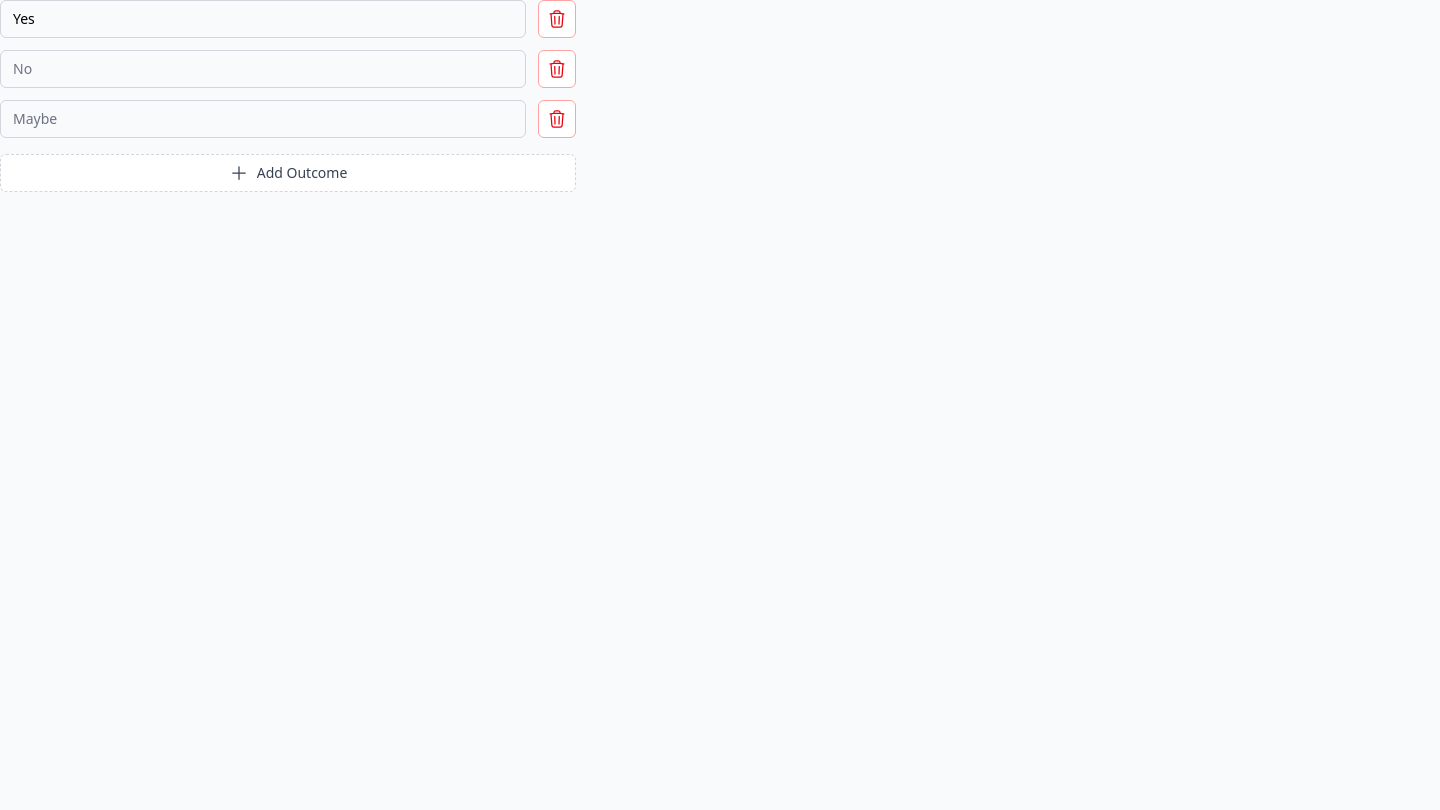
Test case: OutcomesList › shows confirmation dialog when deleting touched outcome
The width and height of the screenshot is (1440, 810).
What coordinates should you click on to do the following:
click the button named "remove"
I would click on:
 (557, 19)
Its box is [538, 0, 576, 38].
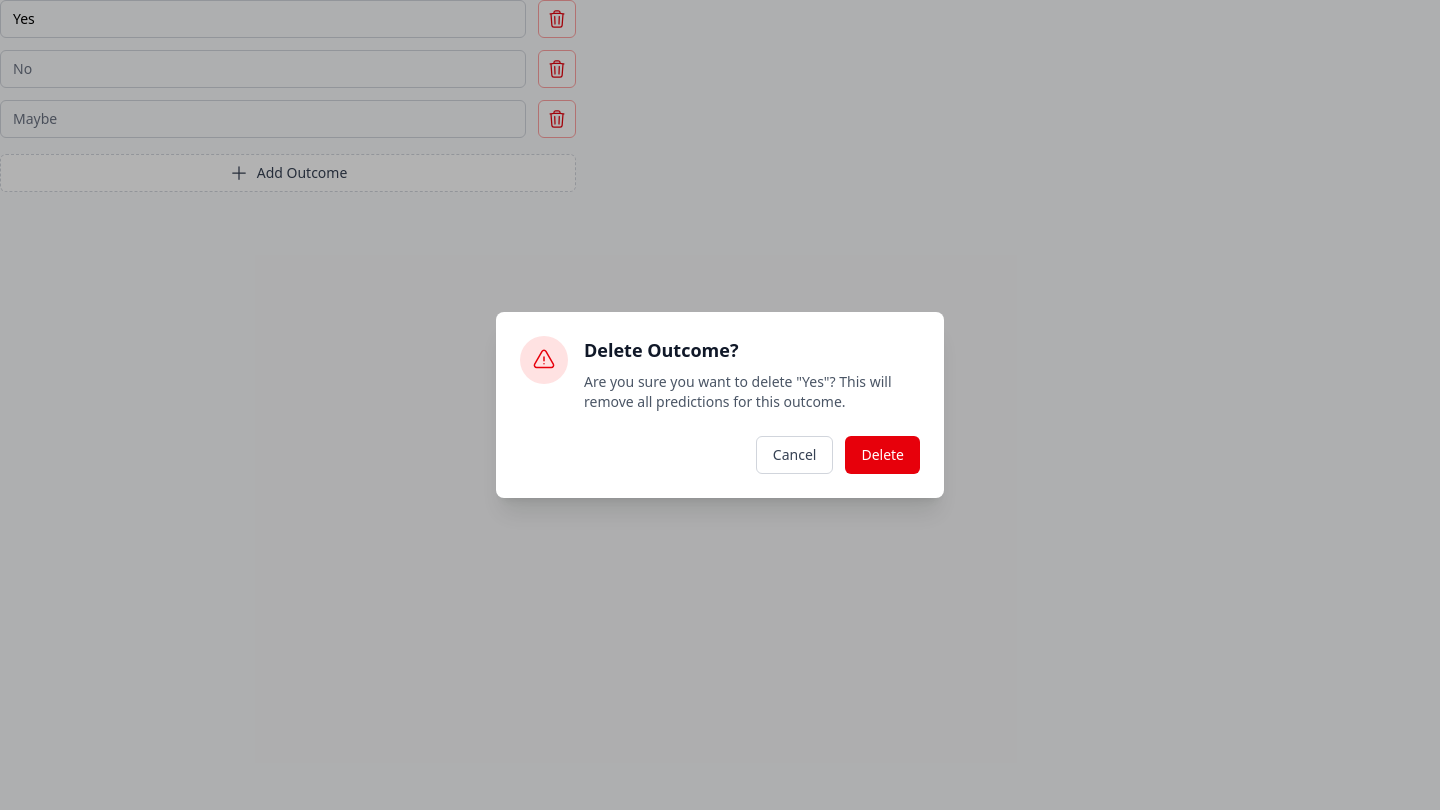
Now the heading "Delete Outcome?" is shown, box [584, 338, 738, 362]
Now the text "Are you sure you want to delete \"Yes\"" is shown, box [584, 372, 892, 411]
